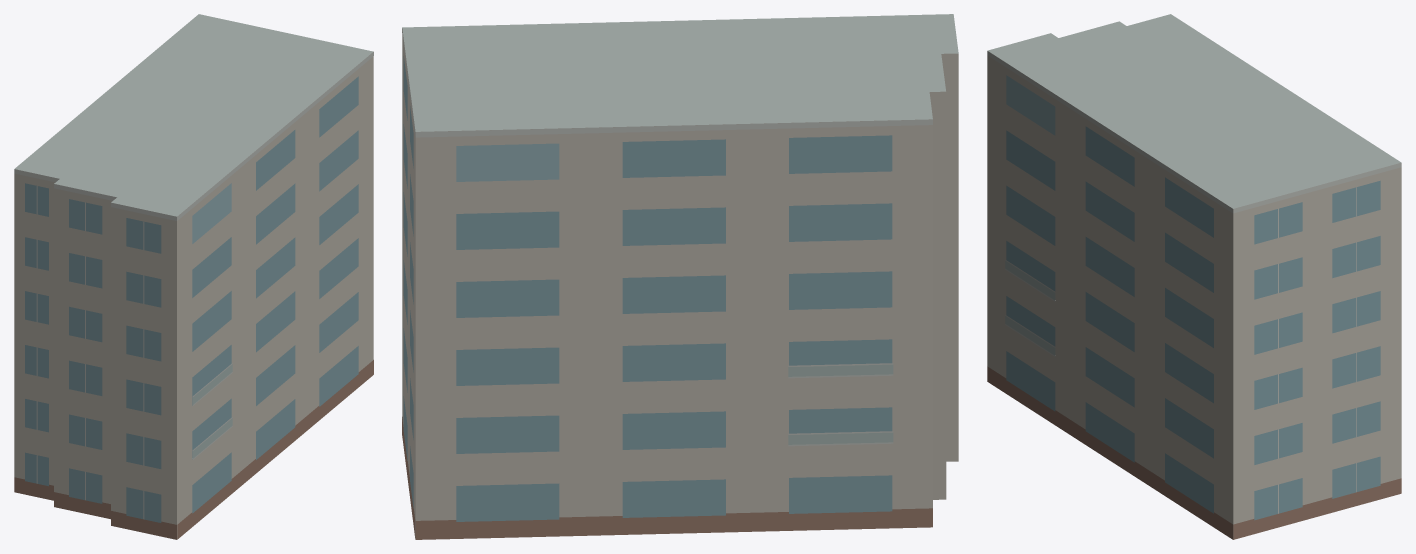
The model's file is survey-upis-33005638.glb.
3 renders of one model, left to right at view 1: azimuth 30°, elevation 25°; view 2: azimuth 150°, elevation 25°; view 3: azimuth 270°, elevation 25°, orthographic. The views are drawn at different scales.
Parts seen in each view (by area): view 1: survey-upis-33005638.tmp; view 2: survey-upis-33005638.tmp; view 3: survey-upis-33005638.tmp.
Part boxes in pixels (left/top/right/bottom): survey-upis-33005638.tmp: left=14, top=14, right=373, bottom=539; survey-upis-33005638.tmp: left=402, top=14, right=958, bottom=539; survey-upis-33005638.tmp: left=987, top=14, right=1401, bottom=539.
Bounding box in the file's own units: 22.11 × 17.5 × 19.86.
